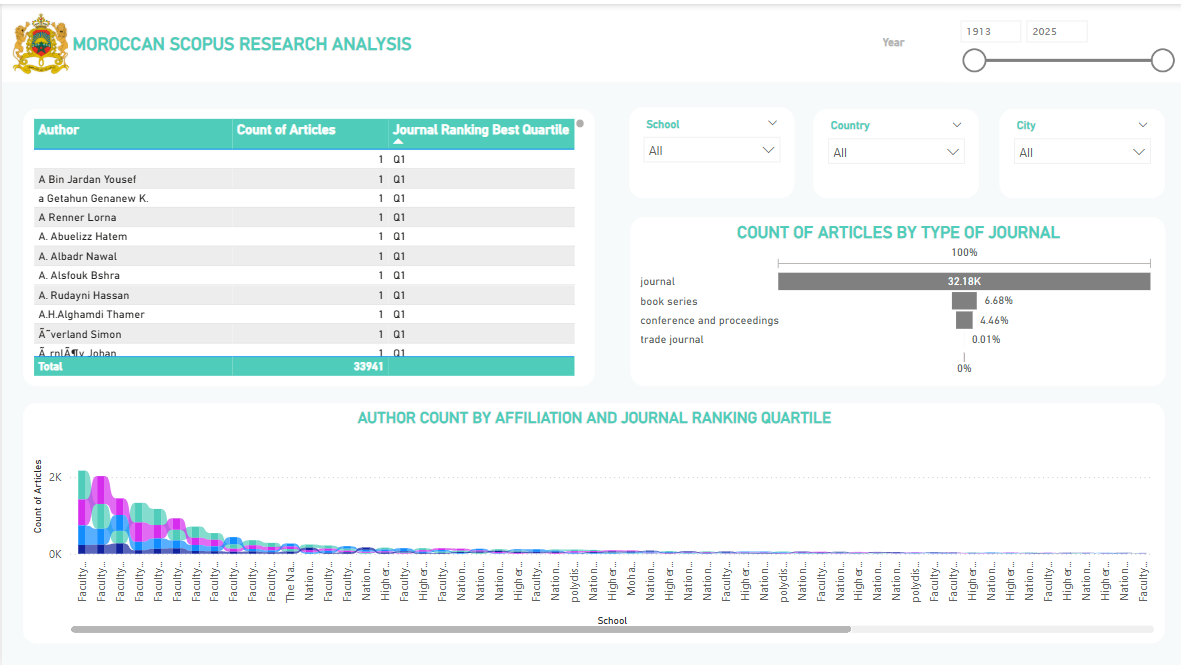

What the dashboard file says about the page in this screenshot:
{"tool":"powerbi","page":{"name":"Dashboard5","canvas":[1280,720],"ordinal":4},"visuals":[{"type":"textbox","box":[0,0,1280.5,84.5],"z":0},{"type":"image","box":[0,0,84.5,84.5],"z":1000},{"type":"textbox","box":[71.8,26.5,393.1,41.6],"z":2000},{"type":"textbox","box":[949.9,26,58.6,34.2],"z":3000},{"type":"slicer","fields":{"Values":["Metadata.year"]},"box":[1026.3,8.1,253.7,76.4],"z":4000},{"type":"slicer","fields":{"Values":["Affiliation.city"]},"box":[1081,113.4,179.5,96.4],"z":5000},{"type":"slicer","fields":{"Values":["Affiliation.country"]},"box":[880.6,113.4,179.5,96.4],"z":6000},{"type":"slicer","fields":{"Values":["Affiliation.school"]},"box":[680.3,111.5,179.5,98.3],"z":7000},{"type":"ribbonChart","title":"AUTHOR COUNT BY AFFILIATION AND JOURNAL RANKING QUARTILE","fields":{"Category":["Affiliation.school"],"Y":["CountNonNull(Metadata.doc_id)"],"Series":["Journal.sjr best quartile"]},"box":[22.7,432.8,1237.8,260.8],"z":8000},{"type":"funnel","title":"COUNT OF ARTICLES BY TYPE OF JOURNAL","fields":{"Category":["Journal.type"],"Y":["CountNonNull(Metadata.doc_id)"]},"box":[682.2,230.6,580.2,183.3],"z":9000},{"type":"tableEx","fields":{"Values":["Author.author_name","Metadata.doc_id","Journal.sjr best quartile"]},"box":[22.7,113.4,619.8,300.5],"z":10000}]}

Visuals, with their boxes in screenshot pixels (x1, y1, x2, y2), scaled from the page's 1280x720 canvas onto the 1181x665 screenshot:
textbox: crop(0, 0, 1180, 78)
image: crop(0, 0, 78, 78)
textbox: crop(66, 24, 429, 63)
textbox: crop(876, 24, 930, 56)
slicer - Metadata.year: crop(947, 7, 1180, 78)
slicer - Affiliation.city: crop(997, 105, 1163, 194)
slicer - Affiliation.country: crop(812, 105, 978, 194)
slicer - Affiliation.school: crop(628, 103, 793, 194)
"AUTHOR COUNT BY AFFILIATION AND JOURNAL RANKING QUARTILE" ribbonChart: crop(21, 400, 1163, 641)
"COUNT OF ARTICLES BY TYPE OF JOURNAL" funnel: crop(629, 213, 1165, 382)
tableEx - Author.author_name x Metadata.doc_id: crop(21, 105, 593, 382)
